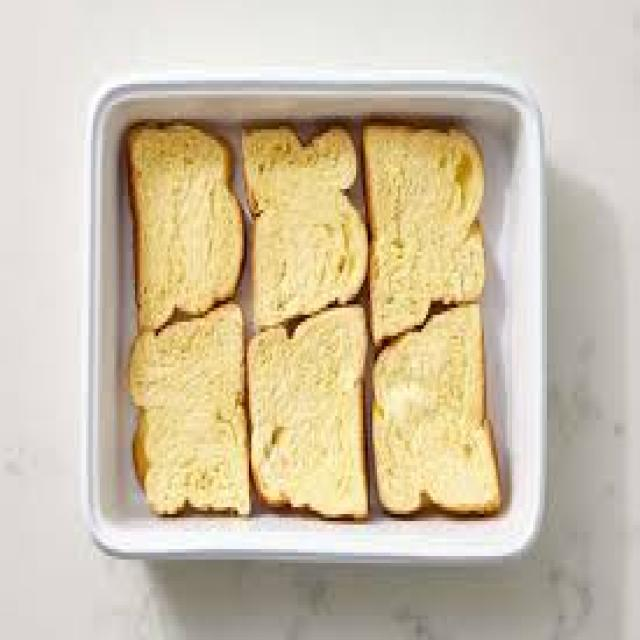Bread: (374, 304, 500, 514), (364, 129, 483, 343), (243, 126, 367, 328), (130, 302, 247, 515), (251, 308, 364, 518), (129, 124, 244, 330)
